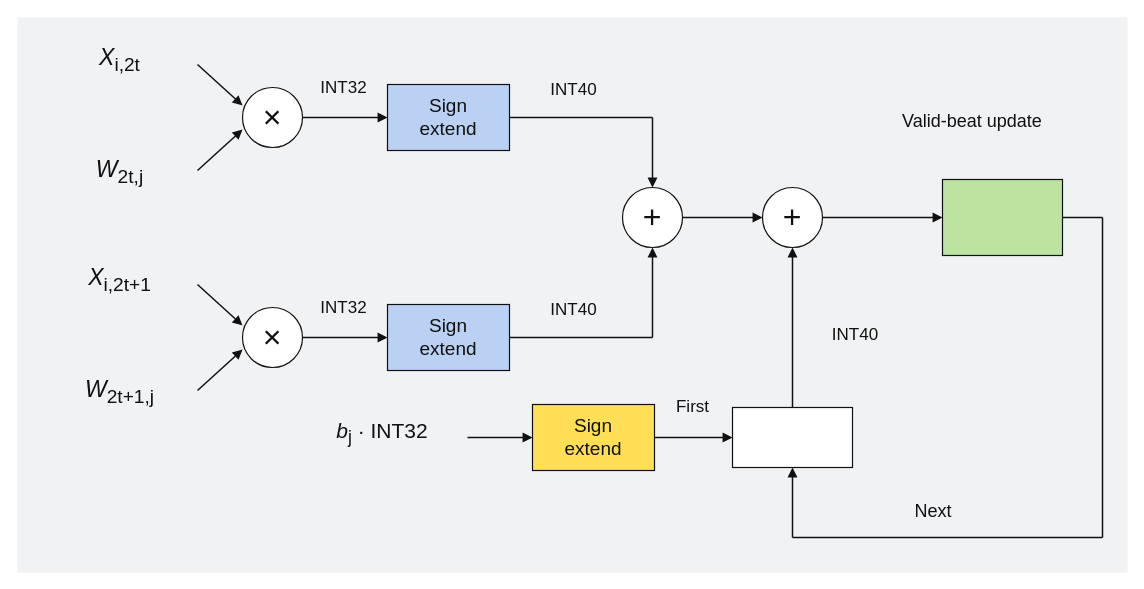
This 1144x589 diagram has some shape labels left out. Each missing label, with the centre of its shape:
"ACC INT40" goes at (x=1002, y=217).
"Select" goes at (x=792, y=437).
